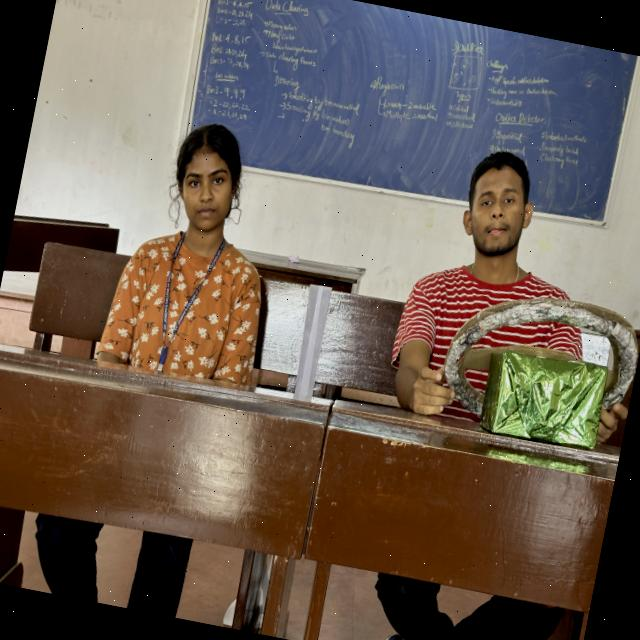Helmet: (384, 252, 598, 434), (99, 219, 278, 391)
